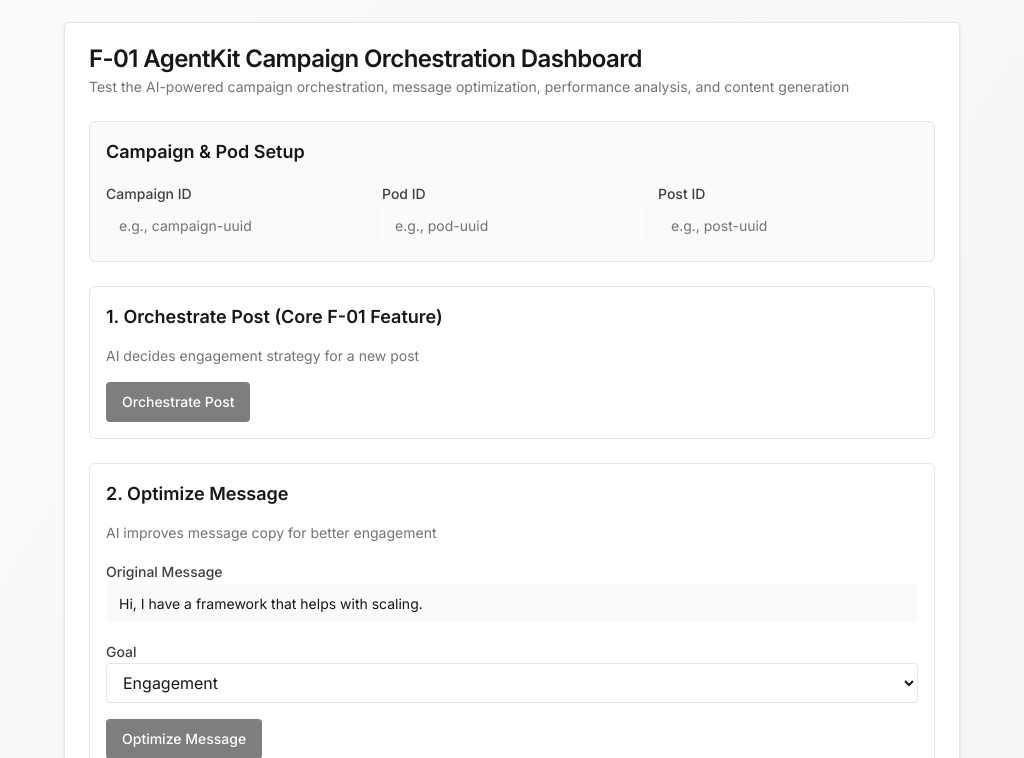
F-01 Orchestration Dashboard › API Calls - optimize_message › should display optimized message result
Fill fields and click
Type "campaign-123" into the field with placeholder "e.g., campaign-uuid".
click(236, 225); type("campaign-123")  # box [106,205,366,245]
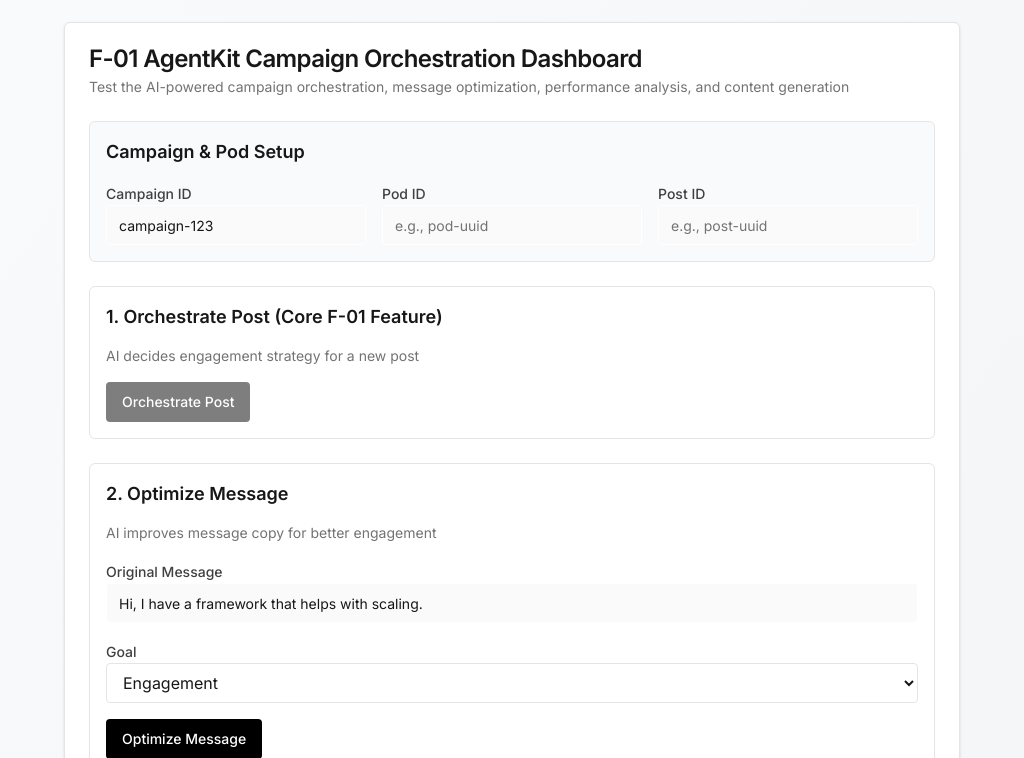
Click the button "Optimize Message".
click(184, 739)  # box [106,719,262,757]
(page scrolled)
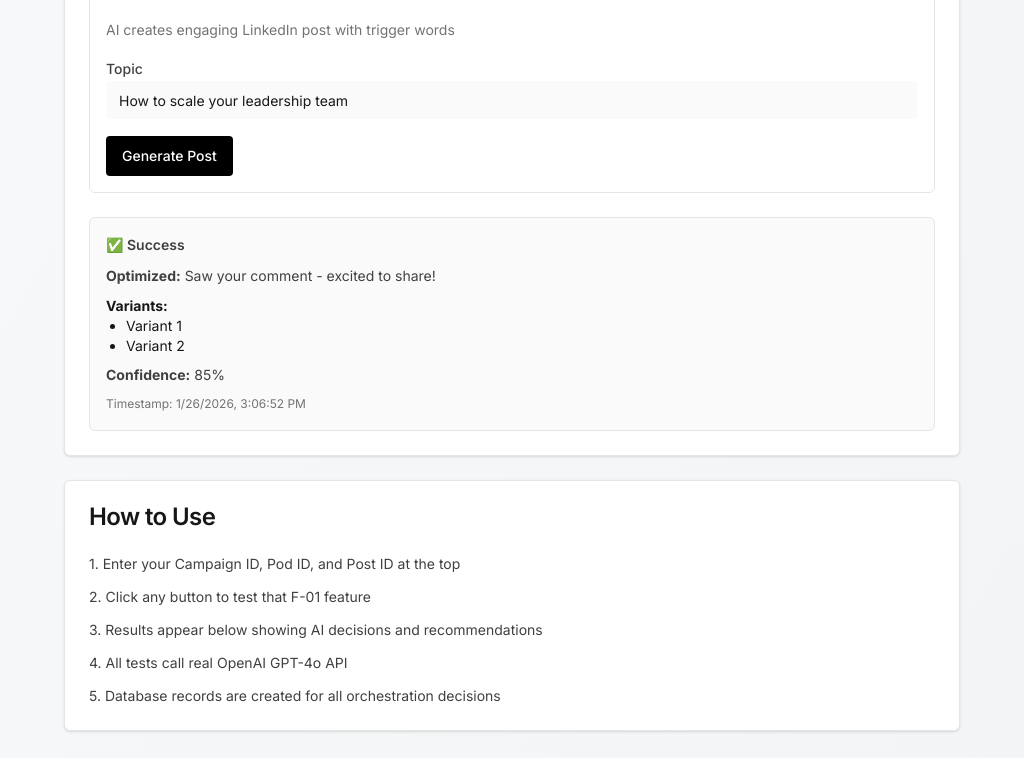
Expected: the text "✅ Success" is shown, [106,236,185,253]
Expected: the text "Optimized:" is shown, [106,267,181,284]
Expected: the text "Optimized: Saw your comment - excited to share!" is shown, [106,267,436,284]
